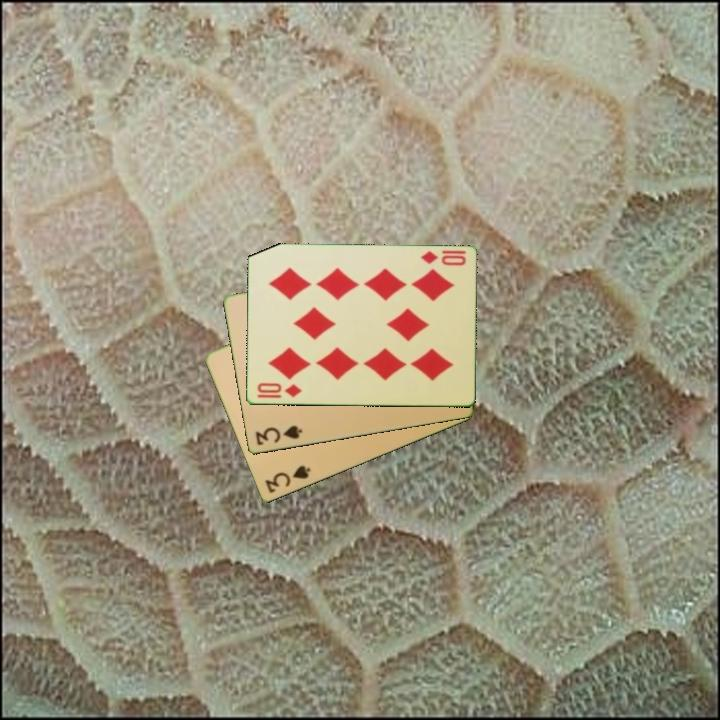10d: (417, 247, 468, 268), (254, 380, 304, 400)
3s: (261, 462, 313, 496), (252, 422, 305, 449)
